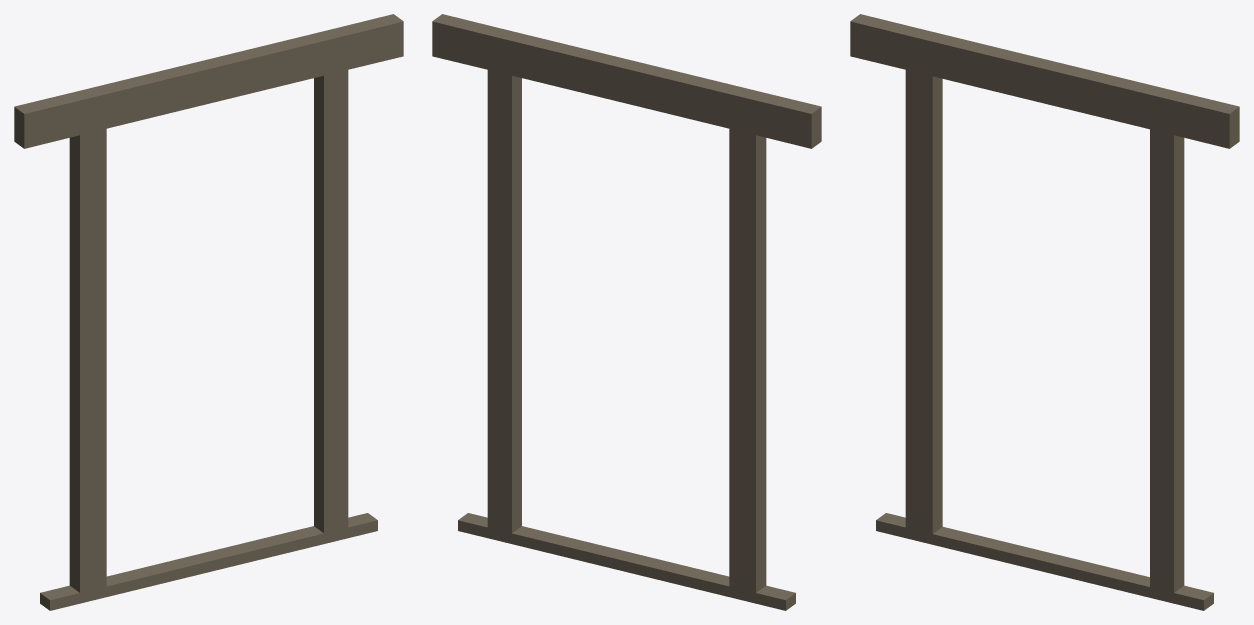
File: Guillotin.fbx
3 views of the same model, side by side, from view 1: azimuth 30°, elevation 25°; view 2: azimuth 150°, elevation 25°; view 3: azimuth 330°, elevation 25° (orthographic).
Parts seen in each view (by area): view 1: pCube22; view 2: pCube22; view 3: pCube22.
Boxes of the visible parts, <box> form: pCube22: <box>14,14,403,610</box>; pCube22: <box>432,14,821,610</box>; pCube22: <box>850,14,1239,610</box>.
Bounding box in the file's own units: 366 × 465 × 16.97.
